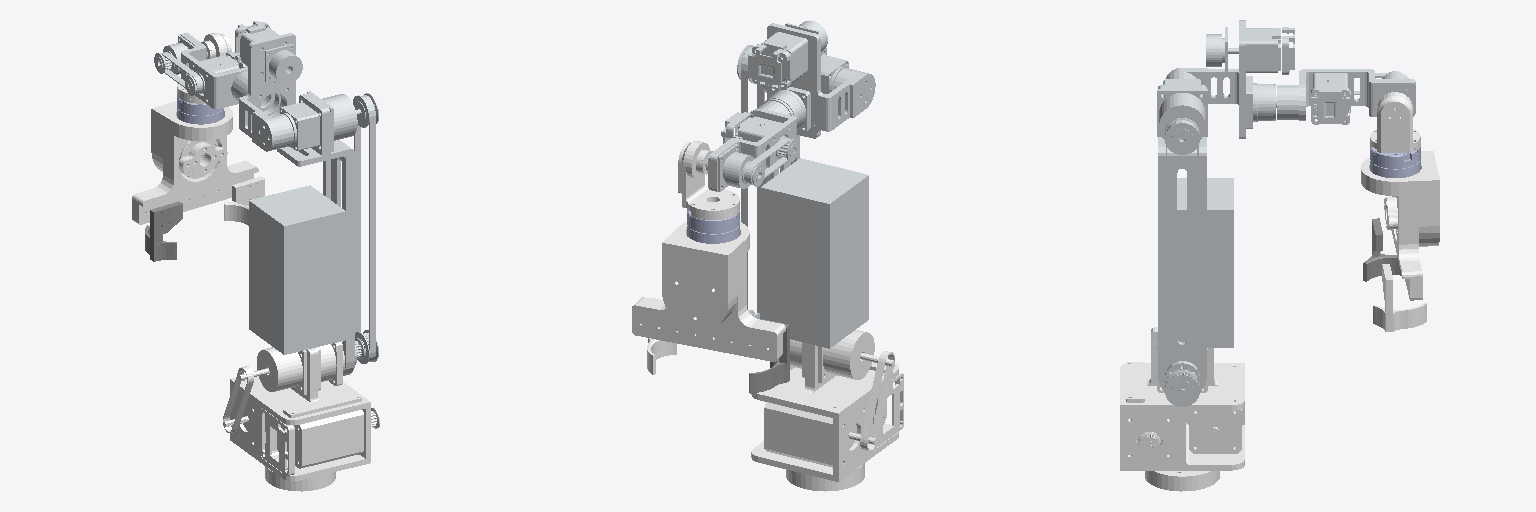
URDF robot description (robot_arm_description):
<?xml version="1.0" encoding="utf-8"?>
<!-- This URDF was automatically created by SolidWorks to URDF Exporter! Originally created by [author] ([email redacted]) 
     Commit Version: 1.6.0-4-g7f85cfe  Build Version: 1.6.7995.38578
     For more information, please see http://wiki.ros.org/sw_urdf_exporter -->
<robot
  name="robot_arm_description">
  
          <!-- 定义一个隐式的“world”链接 -->
  <link name="world"/>
  <joint name="world_to_base" type="fixed">
    <parent link="world"/>
    <child link="base_link"/>
    <origin xyz="0 0 0" rpy="0 0 0"/>
  </joint>
  
  <link
    name="base_link">
    <inertial>
      <origin
        xyz="-0.00956793839217978 -0.092686213637285 0.0909180226713094"
        rpy="0 0 0" />
      <mass
        value="4.31744712742293" />
      <inertia
        ixx="0.0112976279029648"
        ixy="3.51577236586452E-07"
        ixz="9.97829415944576E-06"
        iyy="0.0110674657070687"
        iyz="0.000218051185606114"
        izz="0.0186240189020078" />
    </inertial>
    <visual>
      <origin
        xyz="0 0 0"
        rpy="0 0 0" />
      <geometry>
        <mesh
          filename="package://robot_arm_description/meshes/base_link.STL" />
      </geometry>
      <material
        name="">
        <color
          rgba="1 1 1 1" />
      </material>
    </visual>
    <collision>
      <origin
        xyz="0 0 0"
        rpy="0 0 0" />
      <geometry>
        <mesh
          filename="package://robot_arm_description/meshes/base_link.STL" />
      </geometry>
    </collision>
  </link>
  <link
    name="link1">
    <inertial>
      <origin
        xyz="-0.000491174557142026 -0.000362251337845447 0.044474339979704"
        rpy="0 0 0" />
      <mass
        value="0.674947544731232" />
      <inertia
        ixx="0.000604501950882952"
        ixy="5.14269608785048E-05"
        ixz="2.52574578750344E-06"
        iyy="0.000622860916174633"
        iyz="1.79904056933917E-07"
        izz="0.000575127578688745" />
    </inertial>
    <visual>
      <origin
        xyz="0 0 0"
        rpy="0 0 0" />
      <geometry>
        <mesh
          filename="package://robot_arm_description/meshes/link1.STL" />
      </geometry>
      <material
        name="">
        <color
          rgba="1 1 1 1" />
      </material>
    </visual>
    <collision>
      <origin
        xyz="0 0 0"
        rpy="0 0 0" />
      <geometry>
        <mesh
          filename="package://robot_arm_description/meshes/link1.STL" />
      </geometry>
    </collision>
  </link>
  <joint
    name="joint1"
    type="revolute">
    <origin
      xyz="0 0 0.1284"
      rpy="0 0 0" />
    <parent
      link="base_link" />
    <child
      link="link1" />
    <axis
      xyz="0 0 1" />
    <limit
      lower="-4"
      upper="1"
      effort="100"
      velocity="1" />
  </joint>
  <link
    name="link2">
    <inertial>
      <origin
        xyz="0.00688549166474309 0.0971376141098785 0.013426585265842"
        rpy="0 0 0" />
      <mass
        value="0.658798195964531" />
      <inertia
        ixx="0.00192955984357513"
        ixy="1.80425445703782E-10"
        ixz="-1.75119505889331E-10"
        iyy="0.000324077654263951"
        iyz="0.000121493386851542"
        izz="0.0019293436502465" />
    </inertial>
    <visual>
      <origin
        xyz="0 0 0"
        rpy="0 0 0" />
      <geometry>
        <mesh
          filename="package://robot_arm_description/meshes/link2.STL" />
      </geometry>
      <material
        name="">
        <color
          rgba="0.898039215686275 0.917647058823529 0.929411764705882 1" />
      </material>
    </visual>
    <collision>
      <origin
        xyz="0 0 0"
        rpy="0 0 0" />
      <geometry>
        <mesh
          filename="package://robot_arm_description/meshes/link2.STL" />
      </geometry>
    </collision>
  </link>
  <joint
    name="joint2"
    type="revolute">
    <origin
      xyz="0 0 0.0927"
      rpy="1.5708 0 1.5708" />
    <parent
      link="link1" />
    <child
      link="link2" />
    <axis
      xyz="0 0 1" />
    <limit
      lower="-3.14"
      upper="0.8"
      effort="100"
      velocity="1" />
  </joint>
  <link
    name="link3">
    <inertial>
      <origin
        xyz="-0.0162723153394471 -0.0339296843080454 0.0089889322611172"
        rpy="0 0 0" />
      <mass
        value="0.138711461850837" />
      <inertia
        ixx="7.20784431438331E-05"
        ixy="-1.55169935671368E-05"
        ixz="-1.07599916867154E-05"
        iyy="6.50243647778878E-05"
        iyz="-1.75410546812074E-05"
        izz="8.57966462662998E-05" />
    </inertial>
    <visual>
      <origin
        xyz="0 0 0"
        rpy="0 0 0" />
      <geometry>
        <mesh
          filename="package://robot_arm_description/meshes/link3.STL" />
      </geometry>
      <material
        name="">
        <color
          rgba="0.898039215686275 0.917647058823529 0.929411764705882 1" />
      </material>
    </visual>
    <collision>
      <origin
        xyz="0 0 0"
        rpy="0 0 0" />
      <geometry>
        <mesh
          filename="package://robot_arm_description/meshes/link3.STL" />
      </geometry>
    </collision>
  </link>
  <joint
    name="joint3"
    type="revolute">
    <origin
      xyz="0 0.22 0"
      rpy="-3.1416 0 -1.5708" />
    <parent
      link="link2" />
    <child
      link="link3" />
    <axis
      xyz="0 0 -1" />
    <limit
      lower="-3.14"
      upper="1"
      effort="100"
      velocity="1" />
  </joint>
  <link
    name="link4">
    <inertial>
      <origin
        xyz="-3.14719516212869E-05 0.0114202510006353 0.119062651974254"
        rpy="0 0 0" />
      <mass
        value="0.121954908122942" />
      <inertia
        ixx="0.000112269556670139"
        ixy="2.78691845627752E-09"
        ixz="1.38504824887532E-08"
        iyy="0.000105746885852137"
        iyz="-1.35816151313456E-05"
        izz="2.2786621162764E-05" />
    </inertial>
    <visual>
      <origin
        xyz="0 0 0"
        rpy="0 0 0" />
      <geometry>
        <mesh
          filename="package://robot_arm_description/meshes/link4.STL" />
      </geometry>
      <material
        name="">
        <color
          rgba="0.898039215686275 0.917647058823529 0.929411764705882 1" />
      </material>
    </visual>
    <collision>
      <origin
        xyz="0 0 0"
        rpy="0 0 0" />
      <geometry>
        <mesh
          filename="package://robot_arm_description/meshes/link4.STL" />
      </geometry>
    </collision>
  </link>
  <joint
    name="joint4"
    type="revolute">
    <origin
      xyz="0 0 0"
      rpy="1.5708 0 0" />
    <parent
      link="link3" />
    <child
      link="link4" />
    <axis
      xyz="0 0 1" />
    <limit
      lower="-3.14"
      upper="1.5"
      effort="100"
      velocity="1" />
  </joint>
  <link
    name="link5">
    <inertial>
      <origin
        xyz="3.900879692742E-05 -0.0166604252884486 0.00975512932597962"
        rpy="0 0 0" />
      <mass
        value="0.0471062209334358" />
      <inertia
        ixx="1.46907431007333E-05"
        ixy="1.74858532011627E-11"
        ixz="-2.31868213906344E-08"
        iyy="8.06298145412319E-06"
        iyz="-3.65362595796874E-06"
        izz="1.35890587021117E-05" />
    </inertial>
    <visual>
      <origin
        xyz="0 0 0"
        rpy="0 0 0" />
      <geometry>
        <mesh
          filename="package://robot_arm_description/meshes/link5.STL" />
      </geometry>
      <material
        name="">
        <color
          rgba="1 1 1 1" />
      </material>
    </visual>
    <collision>
      <origin
        xyz="0 0 0"
        rpy="0 0 0" />
      <geometry>
        <mesh
          filename="package://robot_arm_description/meshes/link5.STL" />
      </geometry>
    </collision>
  </link>
  <joint
    name="joint5"
    type="revolute">
    <origin
      xyz="0 0 0.1685"
      rpy="1.5708 -1.5708 0" />
    <parent
      link="link4" />
    <child
      link="link5" />
    <axis
      xyz="0 0 -1" />
    <limit
      lower="-3.14"
      upper="1.0"
      effort="100"
      velocity="1" />
  </joint>
  <link
    name="link6">
    <inertial>
      <origin
        xyz="9.95590778481992E-05 -2.98711917670691E-05 0.0497166945495441"
        rpy="0 0 0" />
      <mass
        value="0.025635671653212" />
      <inertia
        ixx="3.13815351754909E-06"
        ixy="2.97302725476538E-08"
        ixz="1.6647582545735E-08"
        iyy="3.12676973154958E-06"
        iyz="7.1227328768286E-10"
        izz="5.62388863120047E-06" />
    </inertial>
    <visual>
      <origin
        xyz="0 0 0"
        rpy="0 0 0" />
      <geometry>
        <mesh
          filename="package://robot_arm_description/meshes/link6.STL" />
      </geometry>
      <material
        name="">
        <color
          rgba="0.792156862745098 0.819607843137255 0.933333333333333 1" />
      </material>
    </visual>
    <collision>
      <origin
        xyz="0 0 0"
        rpy="0 0 0" />
      <geometry>
        <mesh
          filename="package://robot_arm_description/meshes/link6.STL" />
      </geometry>
    </collision>
  </link>
  <joint
    name="joint6"
    type="revolute">
    <origin
      xyz="0 0 0"
      rpy="1.5708 0 0" />
    <parent
      link="link5" />
    <child
      link="link6" />
    <axis
      xyz="0 0 1" />
    <limit
      lower="-3.14"
      upper="3.14"
      effort="100"
      velocity="1" />
  </joint>
  <link
    name="link_hand">
    <inertial>
      <origin
        xyz="0.0121918868916105 -0.00116091508582963 0.0970327382136116"
        rpy="0 0 0" />
      <mass
        value="0.140989899651209" />
      <inertia
        ixx="0.000164567714501199"
        ixy="-4.76090299152527E-06"
        ixz="-1.61534133469647E-06"
        iyy="0.000115305703497291"
        iyz="1.7414581292232E-07"
        izz="8.5144229458496E-05" />
    </inertial>
    <visual>
      <origin
        xyz="0 0 0"
        rpy="0 0 0" />
      <geometry>
        <mesh
          filename="package://robot_arm_description/meshes/link_hand.STL" />
      </geometry>
      <material
        name="">
        <color
          rgba="1 1 1 1" />
      </material>
    </visual>
    <collision>
      <origin
        xyz="0 0 0"
        rpy="0 0 0" />
      <geometry>
        <mesh
          filename="package://robot_arm_description/meshes/link_hand.STL" />
      </geometry>
    </collision>
  </link>
  <joint
    name="joint_hand"
    type="fixed">
    <origin
      xyz="0 0 0"
      rpy="0 0 0" />
    <parent
      link="link6" />
    <child
      link="link_hand" />
    <axis
      xyz="0 0 0" />
  </joint>
  <link
    name="link_right">
    <inertial>
      <origin
        xyz="-0.00673545518369728 -0.00515632276669115 -0.0465020436892043"
        rpy="0 0 0" />
      <mass
        value="0.00742100783583876" />
      <inertia
        ixx="1.96056708562187E-06"
        ixy="3.37810331504543E-07"
        ixz="1.31566810945991E-08"
        iyy="9.67903644156337E-07"
        iyz="-3.01024771806151E-07"
        izz="2.1334495938295E-06" />
    </inertial>
    <visual>
      <origin
        xyz="0 0 0"
        rpy="0 0 0" />
      <geometry>
        <mesh
          filename="package://robot_arm_description/meshes/link_right.STL" />
      </geometry>
      <material
        name="">
        <color
          rgba="0.627450980392157 0.627450980392157 0.627450980392157 1" />
      </material>
    </visual>
    <collision>
      <origin
        xyz="0 0 0"
        rpy="0 0 0" />
      <geometry>
        <mesh
          filename="package://robot_arm_description/meshes/link_right.STL" />
      </geometry>
    </collision>
  </link>
  <joint
    name="joint_right"
    type="prismatic">
    <origin
      xyz="0 0 0.1465"
      rpy="-1.5708 0 -0.095289" />
    <parent
      link="link_hand" />
    <child
      link="link_right" />
    <axis
      xyz="0 0 1" />
    <limit
      lower="0"
      upper="0.06"
      effort="100"
      velocity="1" />
  </joint>
  <link
    name="link_left">
    <inertial>
      <origin
        xyz="0.00673545519462737 -0.00515632276231981 -0.046502043693942"
        rpy="0 0 0" />
      <mass
        value="0.00742100781440049" />
      <inertia
        ixx="1.96056708271233E-06"
        ixy="-3.37810331344714E-07"
        ixz="-1.31566812902485E-08"
        iyy="9.67903643301004E-07"
        iyz="-3.010247720343E-07"
        izz="2.13344959114745E-06" />
    </inertial>
    <visual>
      <origin
        xyz="0 0 0"
        rpy="0 0 0" />
      <geometry>
        <mesh
          filename="package://robot_arm_description/meshes/link_left.STL" />
      </geometry>
      <material
        name="">
        <color
          rgba="1 1 1 1" />
      </material>
    </visual>
    <collision>
      <origin
        xyz="0 0 0"
        rpy="0 0 0" />
      <geometry>
        <mesh
          filename="package://robot_arm_description/meshes/link_left.STL" />
      </geometry>
    </collision>
  </link>
  <joint
    name="joint_left"
    type="prismatic">
    <origin
      xyz="0 0 0.1465"
      rpy="-1.5708 0 3.0463" />
    <parent
      link="link_hand" />
    <child
      link="link_left" />
    <axis
      xyz="0 0 1" />
    <limit
      lower="0"
      upper="0.06"
      effort="100"
      velocity="1" />
     <mimic joint="joint_right" />
  </joint>
</robot>

--- Render facts (derived) ---
The picture shows the robot from 3 angles, left to right: view 1: azimuth 30°, elevation 25°; view 2: azimuth 150°, elevation 25°; view 3: azimuth 270°, elevation 25°; orthographic projection.
Model robot_arm_description with 11 links and 10 joints (6 revolute, 2 prismatic, 2 fixed), rooted at world, posed all joints at 0.
Links seen in each view (by area): view 1: link2, link1, link_hand, link3, link4, link_right, link_left, link6, link5; view 2: link2, link1, link_hand, link3, link4, link5, link6, link_right, link_left; view 3: link2, link1, link3, link_hand, link4, link5, link_left, link6, link_right.
Link boxes in pixels (left/top/right/bottom): link2: left=249, top=91, right=378, bottom=375; link1: left=223, top=342, right=379, bottom=491; link_hand: left=132, top=101, right=258, bottom=224; link3: left=235, top=21, right=319, bottom=151; link4: left=154, top=33, right=247, bottom=108; link_right: left=145, top=201, right=182, bottom=261; link_left: left=224, top=177, right=264, bottom=225; link6: left=177, top=96, right=223, bottom=124; link5: left=177, top=33, right=231, bottom=103; link2: left=737, top=45, right=868, bottom=348; link1: left=751, top=330, right=903, bottom=491; link_hand: left=632, top=222, right=785, bottom=361; link3: left=748, top=20, right=875, bottom=138; link4: left=708, top=101, right=798, bottom=191; link5: left=678, top=141, right=739, bottom=219; link6: left=687, top=209, right=739, bottom=243; link_right: left=749, top=318, right=789, bottom=393; link_left: left=647, top=298, right=676, bottom=374; link2: left=1157, top=85, right=1233, bottom=406; link1: left=1120, top=327, right=1244, bottom=491; link3: left=1163, top=20, right=1294, bottom=138; link_hand: left=1361, top=151, right=1439, bottom=300; link4: left=1276, top=69, right=1415, bottom=124; link5: left=1370, top=92, right=1420, bottom=152; link_left: left=1373, top=264, right=1426, bottom=331; link6: left=1370, top=146, right=1420, bottom=177; link_right: left=1363, top=218, right=1401, bottom=281.
Bounding box of the posed robot: 0.1323 × 0.2535 × 0.3882 m (x, y, z).
Meshes: 10 distinct files referenced, 9 mesh visuals loaded (9 binary STL); not drawn: 1 (reference not matched to a file when rendering).
